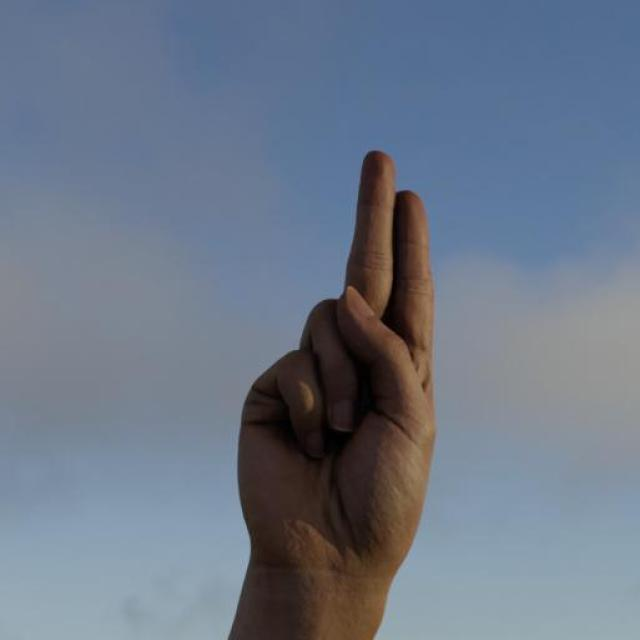U: (180, 133, 501, 623)
